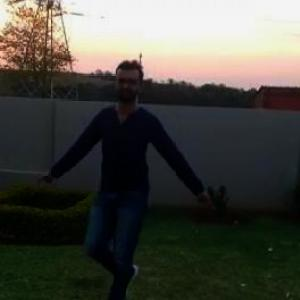land: (65, 80, 191, 264)
